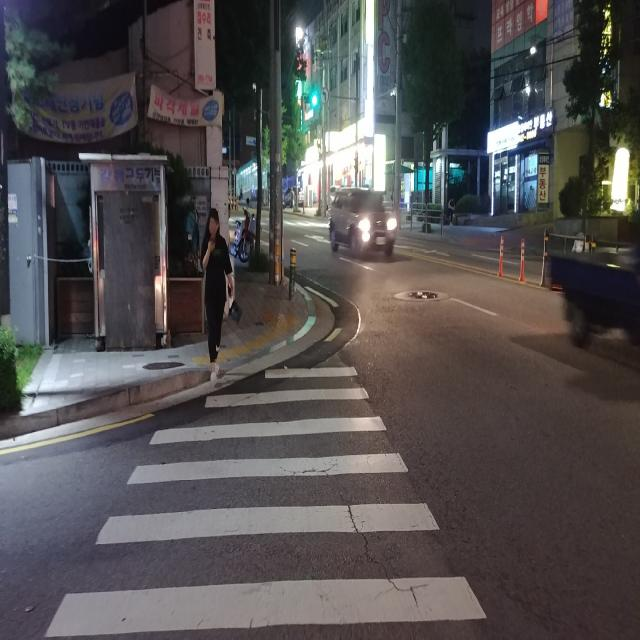횡단보도: (44, 364, 487, 640)
